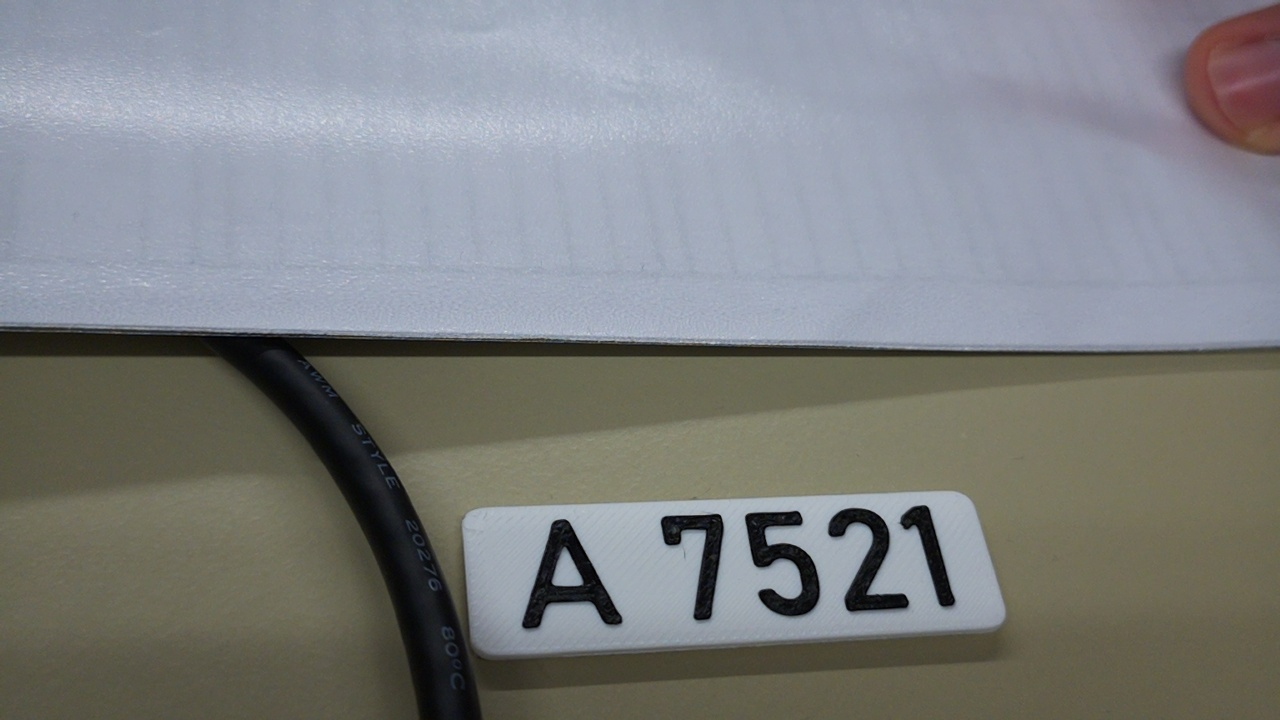license_plate: (459, 485, 1012, 664)
